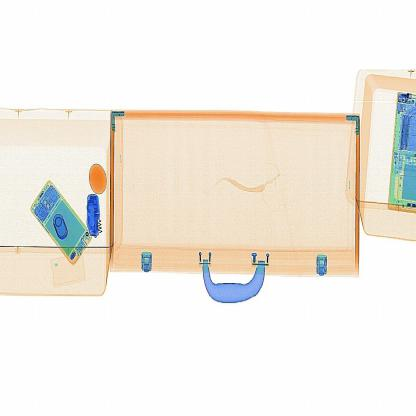scissors: (84, 185, 108, 248)
